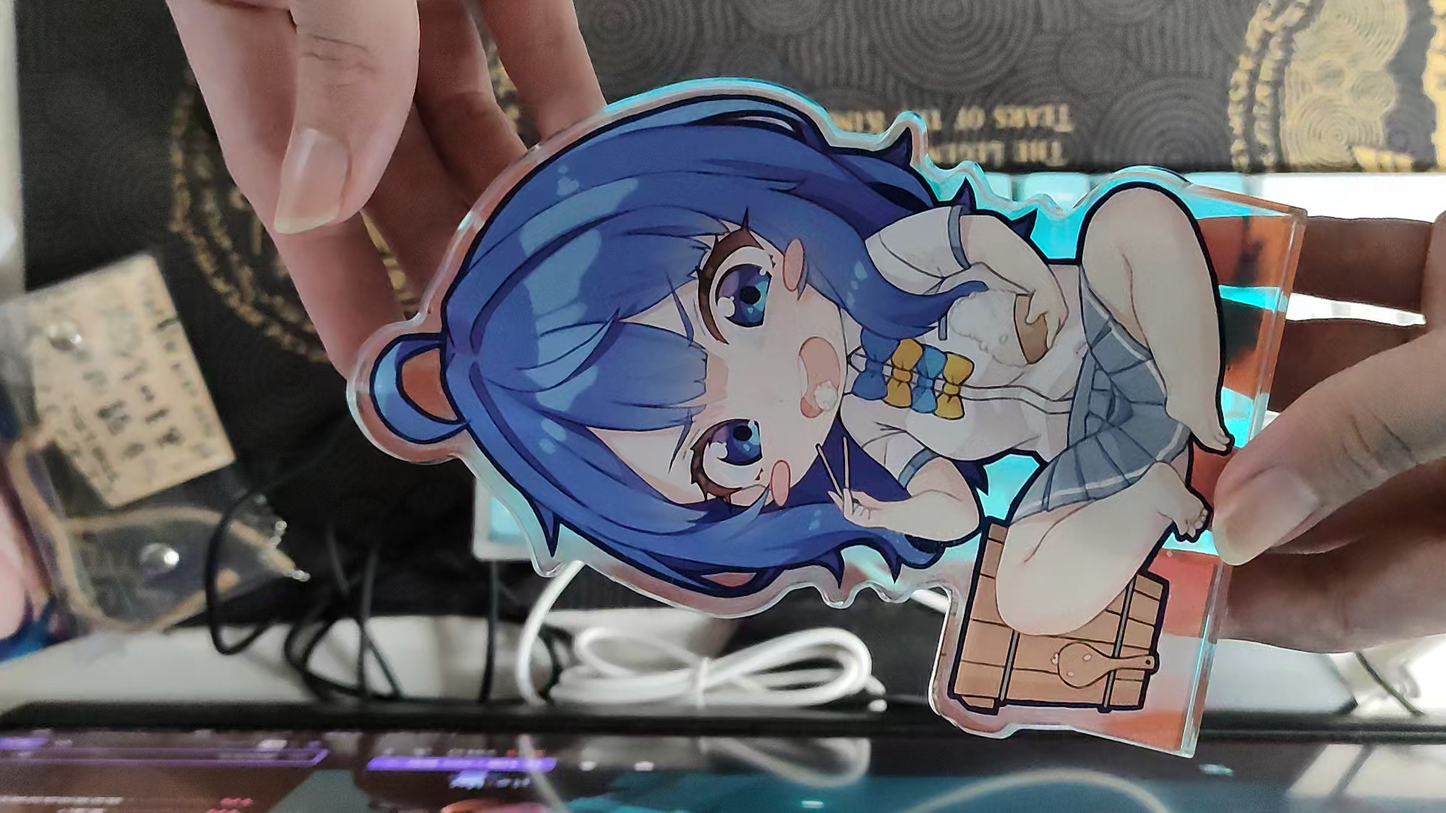Yanami-anna: (345, 80, 1307, 763)
